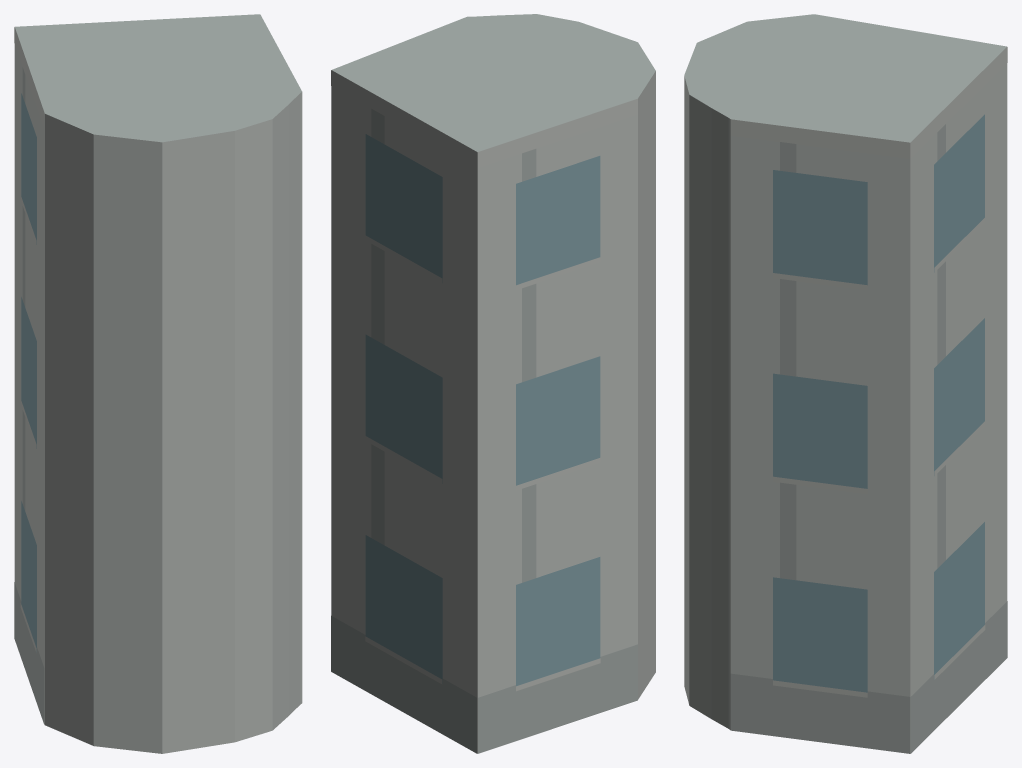
File: survey-upis-32634306.glb
3 views of the same model, side by side, from view 1: azimuth 30°, elevation 25°; view 2: azimuth 150°, elevation 25°; view 3: azimuth 270°, elevation 25° (orthographic).
Visible parts, largest first — view 1: survey-upis-32634306.tmp; view 2: survey-upis-32634306.tmp; view 3: survey-upis-32634306.tmp.
Part boxes in pixels (left/top/right/bottom): survey-upis-32634306.tmp: left=14, top=14, right=302, bottom=753; survey-upis-32634306.tmp: left=331, top=14, right=655, bottom=753; survey-upis-32634306.tmp: left=684, top=14, right=1007, bottom=753.
Bounding box in the file's own units: 4.14 × 9.15 × 4.39.
